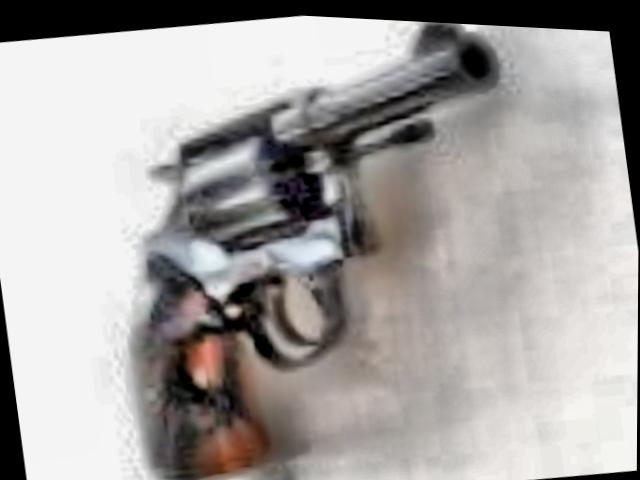pistol: (67, 3, 543, 480)
